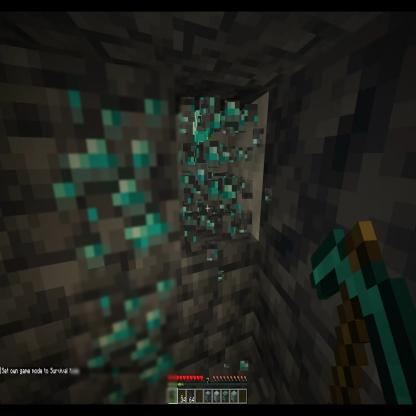diamond ore: (50, 65, 183, 261), (72, 271, 178, 403)
